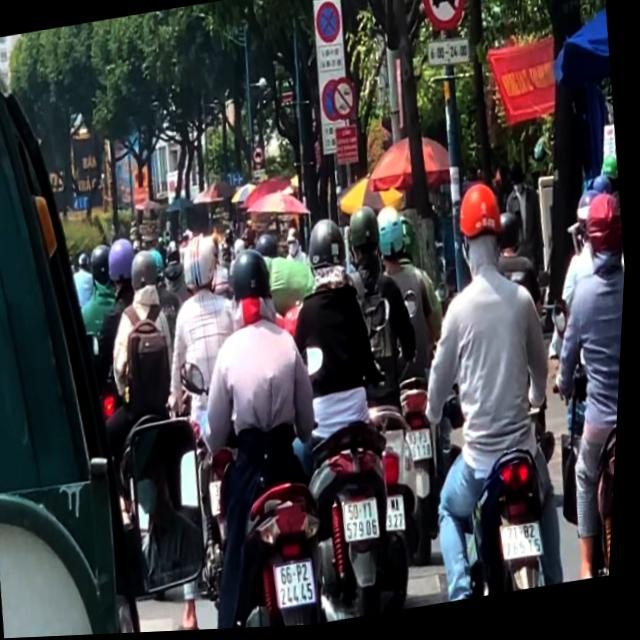Cam dung xe va do xe: (312, 0, 345, 50)
Cam xe tai tren 2_5: (420, 0, 464, 37)
